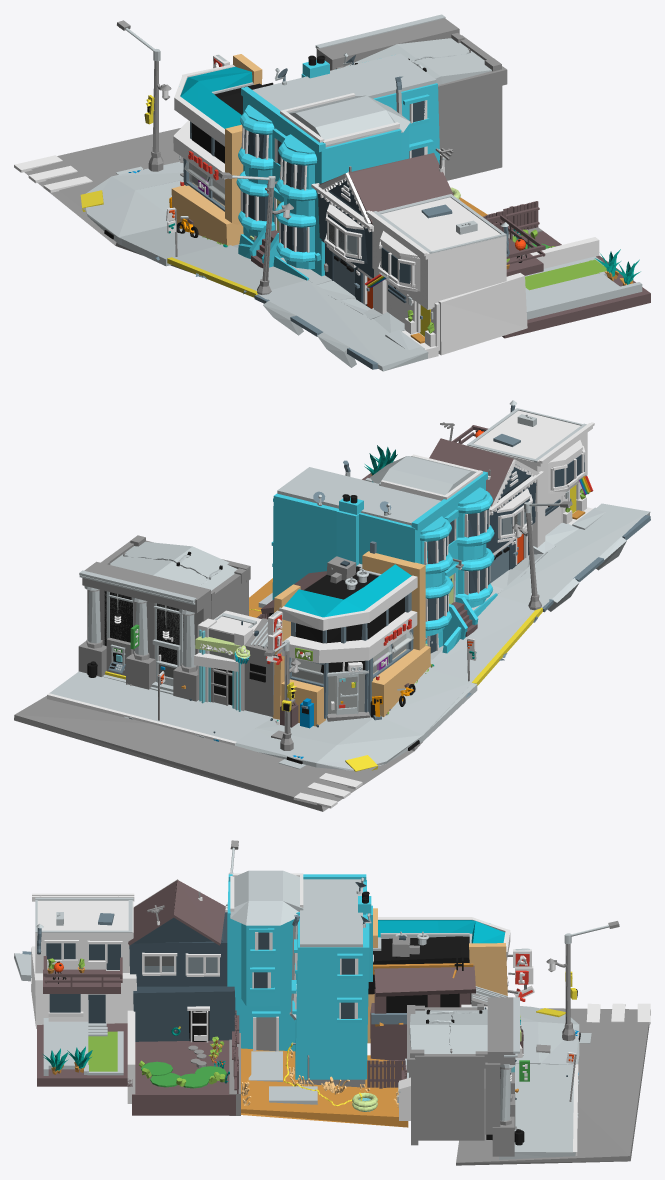
Rendered from Level1_MirroredCity.fbx.
3 views of the same model, one above another, from view 1: azimuth 30°, elevation 25°; view 2: azimuth 150°, elevation 25°; view 3: azimuth 270°, elevation 25° (orthographic). The views are drawn at different scales.
Parts seen in each view (by area): view 1: group703449610; view 2: group703449610; view 3: group703449610.
Part boxes in pixels (left/top/right/bottom): group703449610: left=14, top=14, right=650, bottom=371; group703449610: left=14, top=400, right=650, bottom=811; group703449610: left=14, top=840, right=650, bottom=1165.
Bounding box in the file's own units: 476 × 236 × 758.
